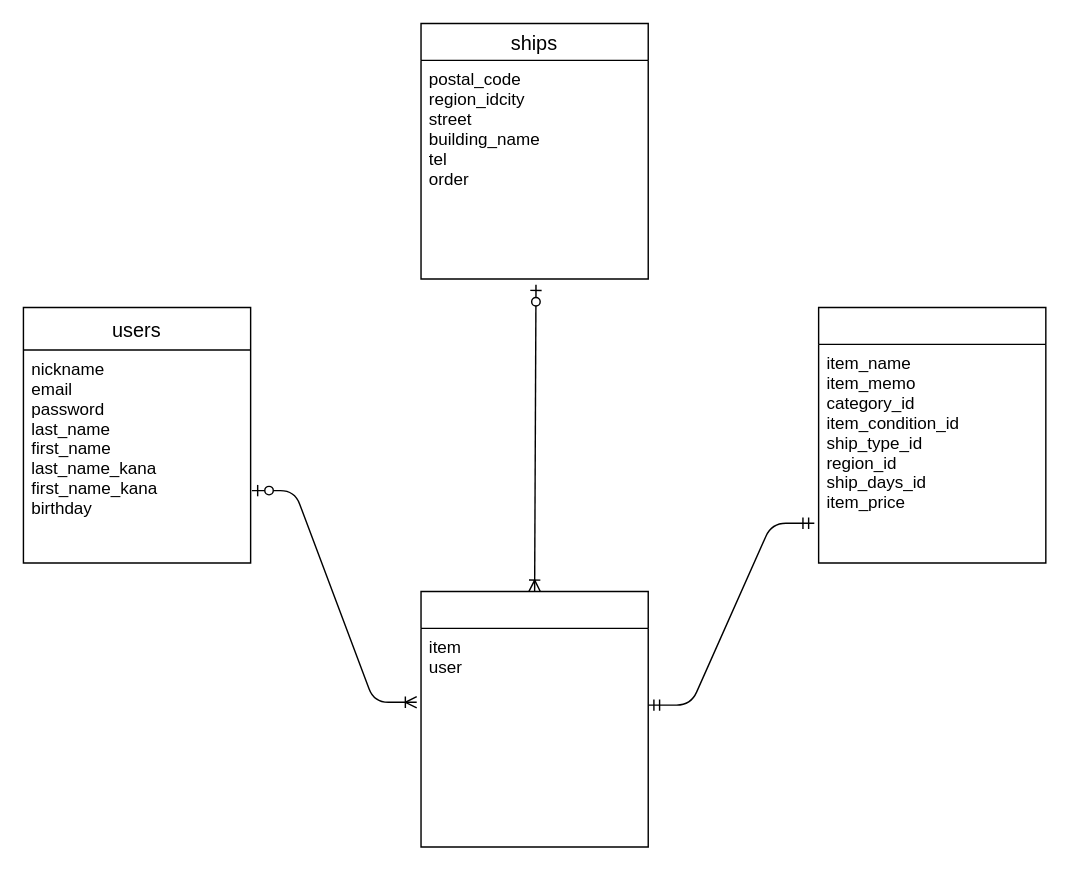
Some shapes in this 1069 by 870 pixel diagram are drawn without their labels. The box of each missing label's shape, as (x1, y1, x2, y2) in pixels:
items: (817, 306, 1046, 563)
orders: (420, 590, 648, 847)
